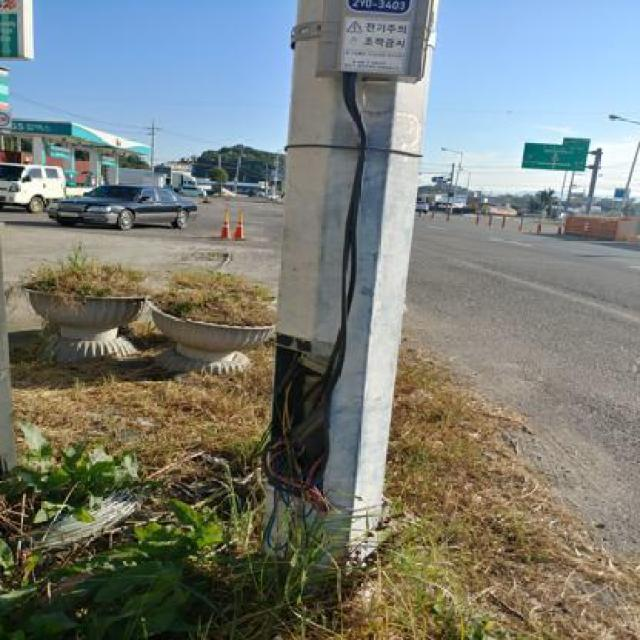pole: (265, 6, 414, 563)
